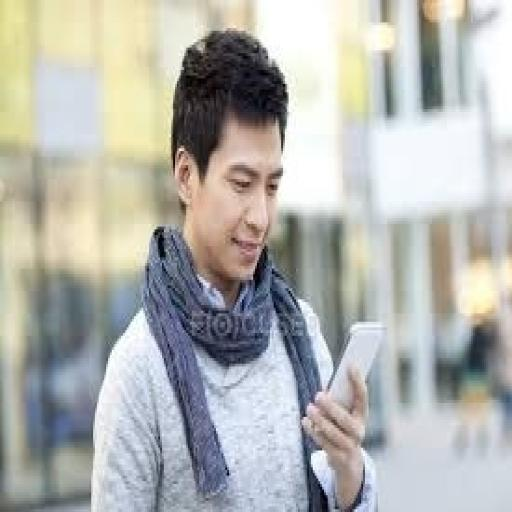texting: (87, 25, 380, 509)
